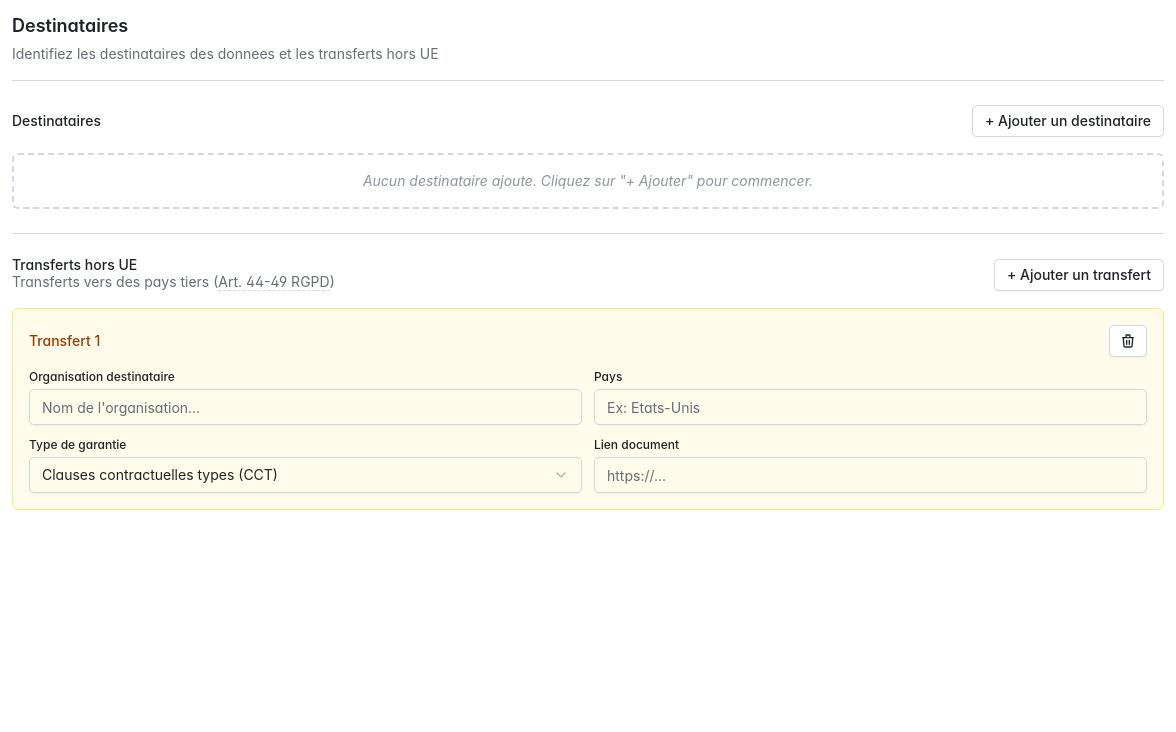
it: Step3Recipients › shows the adequacy indicator when the country matches ADEQUATE_COUNTRIES (e.g. "Switzerland")
Type "Switzerland" into the field with placeholder "Ex: Etats-Unis" at (870, 407), box [594,389,1147,425]
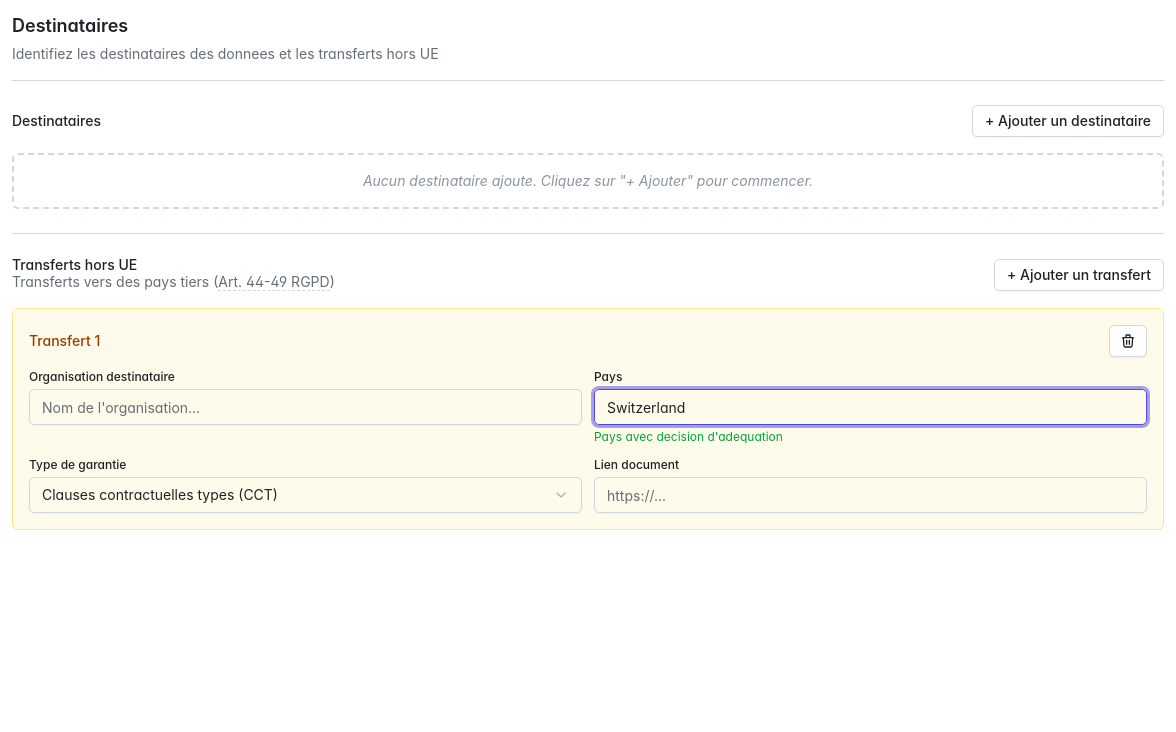
Check: the text "Pays avec decision d'adequation" is shown, box [594,429,783,444]
